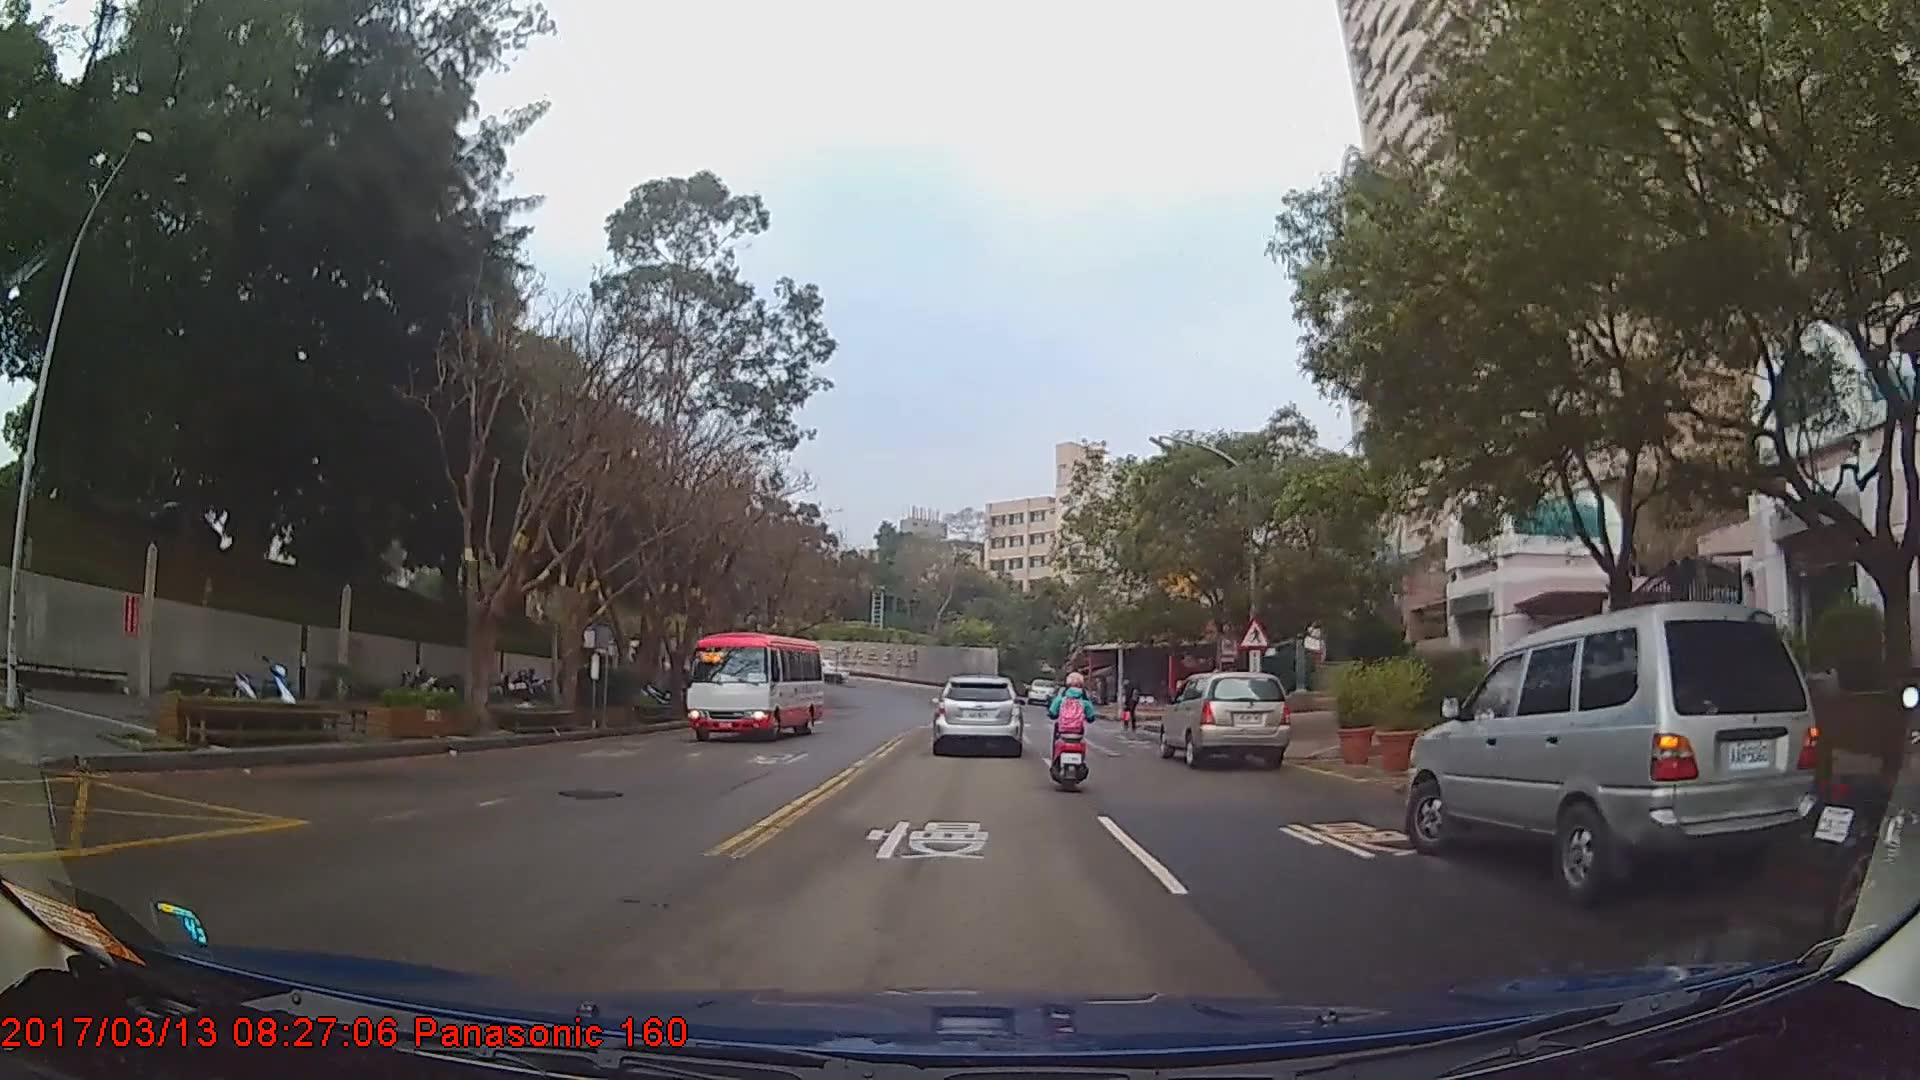pedestrian: (1118, 673, 1143, 736)
rider: (1045, 665, 1100, 795)
vehicle: (1408, 598, 1821, 907), (685, 629, 824, 741), (1157, 670, 1291, 768), (929, 674, 1024, 757), (1026, 677, 1058, 703)
